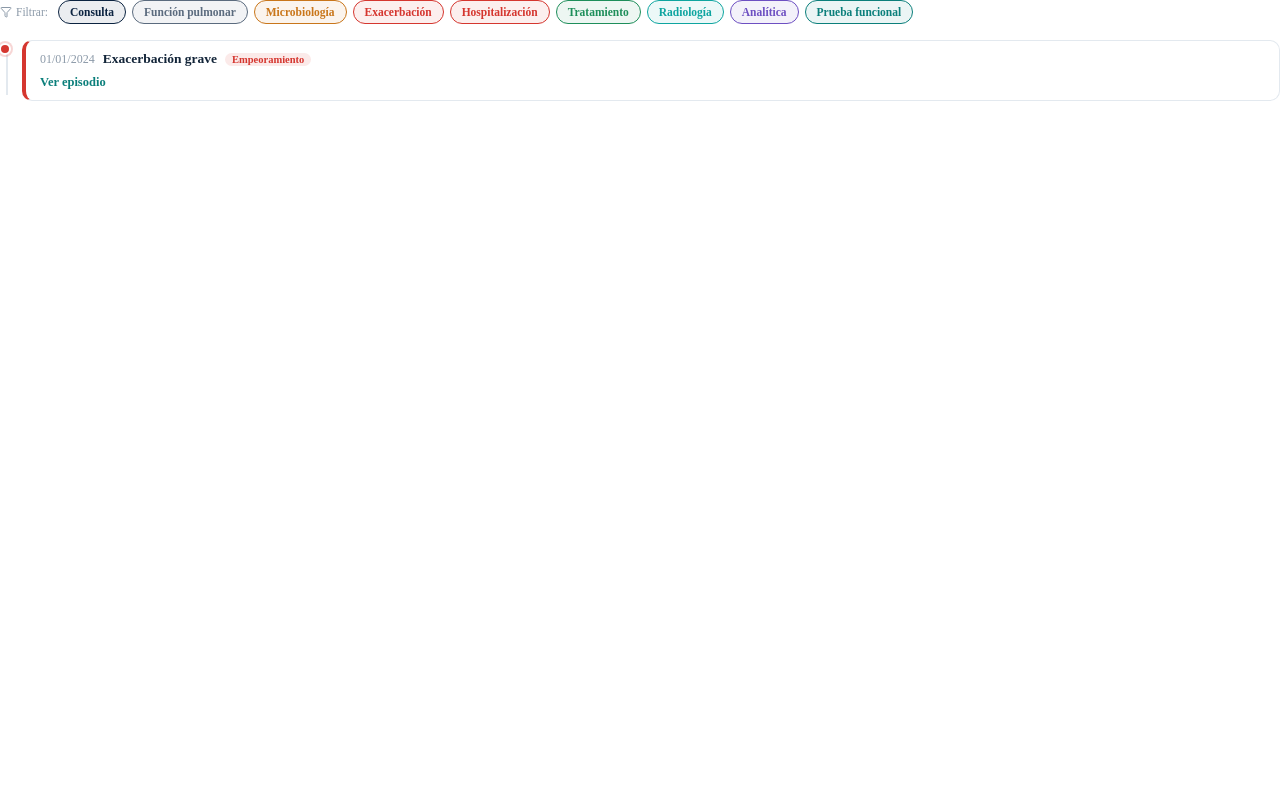
TimelineTab › una exacerbación hospitalizada SIN datos de episodio (sin episodeId ni fecha de alta) igualmente se representa como episodio, sin inventar lo que falta
Expected: the text "Exacerbación grave" is shown, top-left (103, 51), bottom-right (217, 67)
Click the button "Ver episodio" at (73, 82), box top-left (40, 75), bottom-right (106, 90)
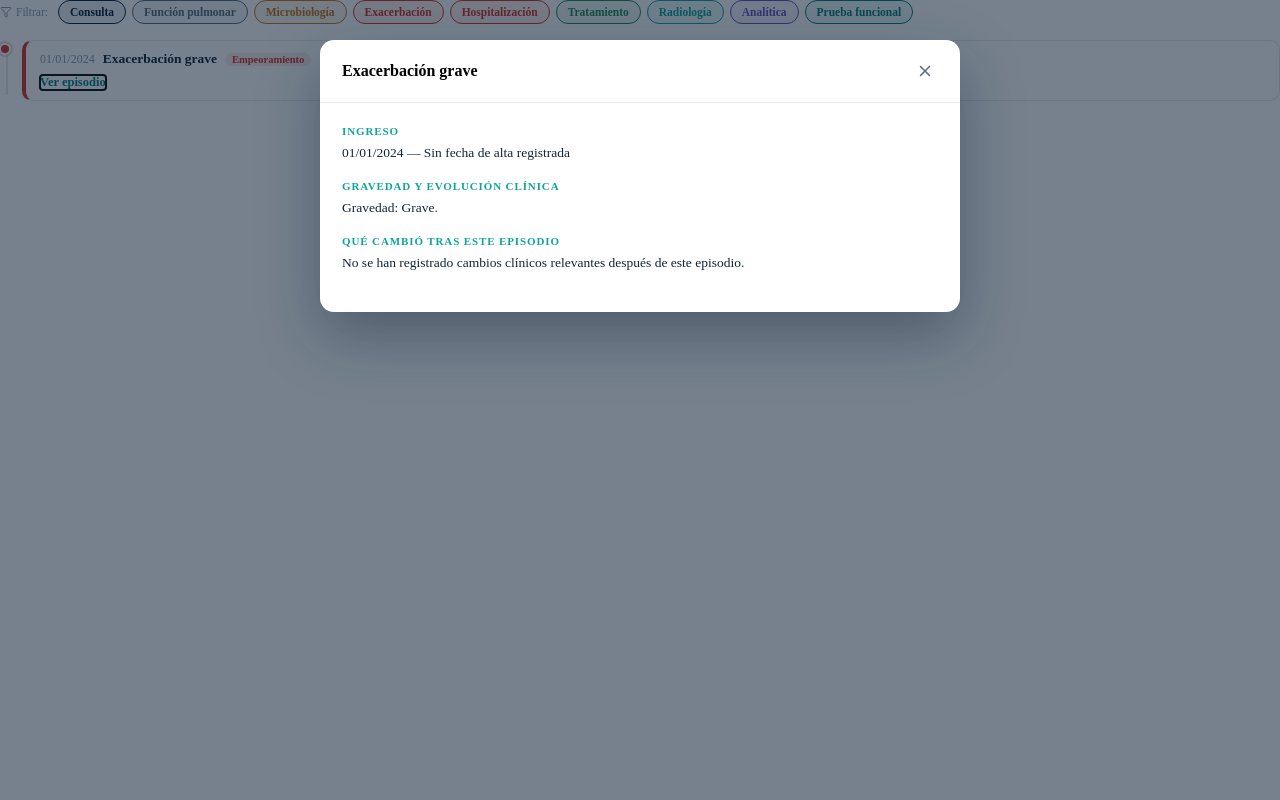
Result: the text "01/01/2024 — Sin fecha de alta registrada" is shown at top-left (342, 145), bottom-right (570, 160)
Result: the text "No se han registrado cambios clínicos relevantes después de este episodio." is shown at top-left (342, 255), bottom-right (744, 270)
